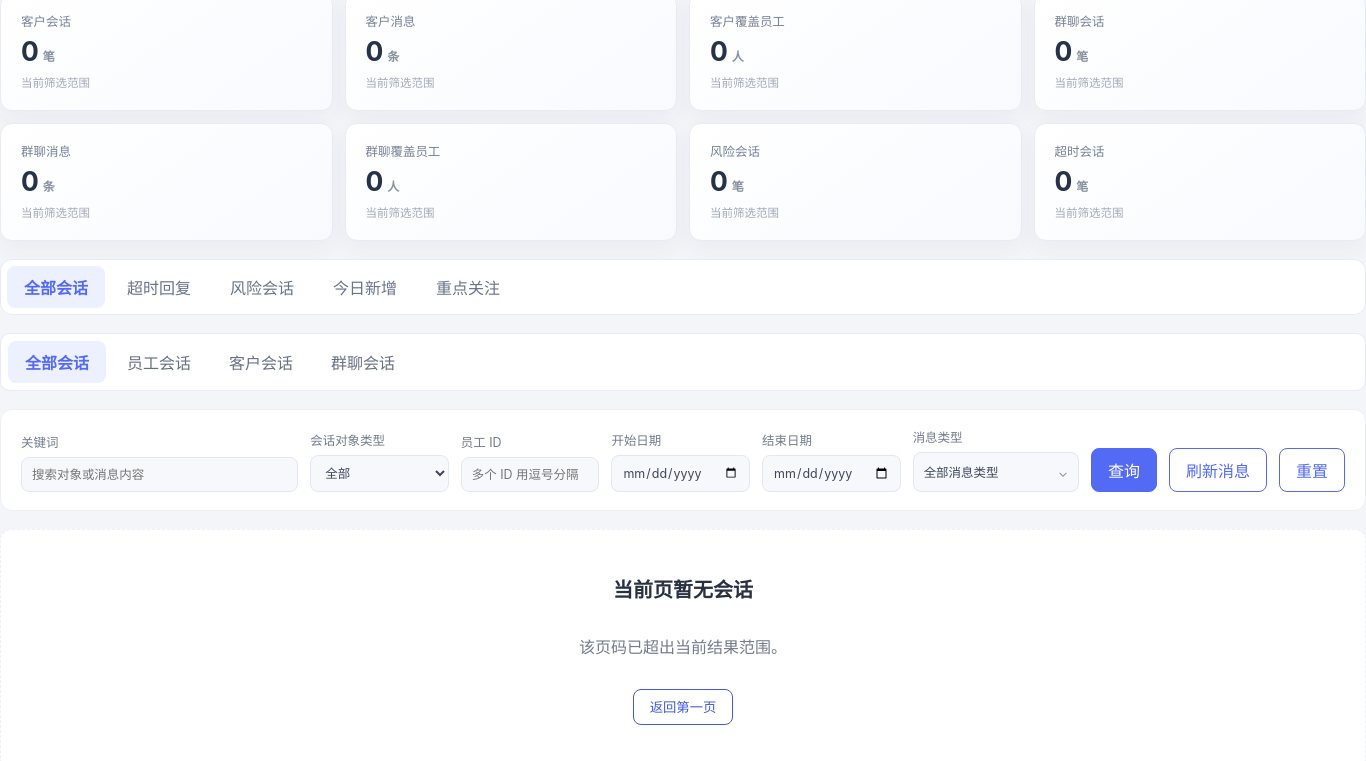
it: ConversationGlobalPage › lets a stale out-of-range URL return to the first page
Step 1. Click the button "返回第一页" → (683, 706), box [633,688,733,724]
(page scrolled)
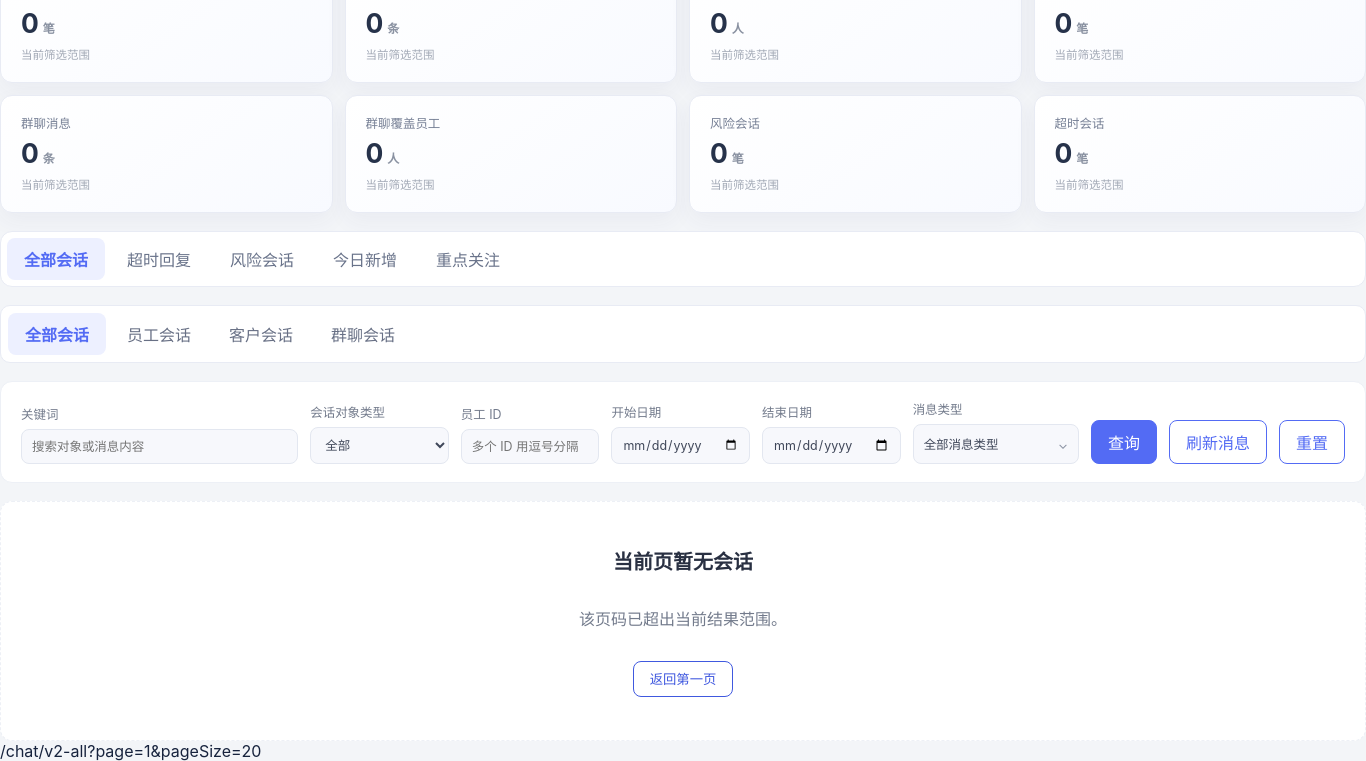
Check: the text named "当前地址" shows "page=1", box [87,741,262,760]
